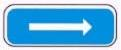sinais: (1, 2, 121, 50)
